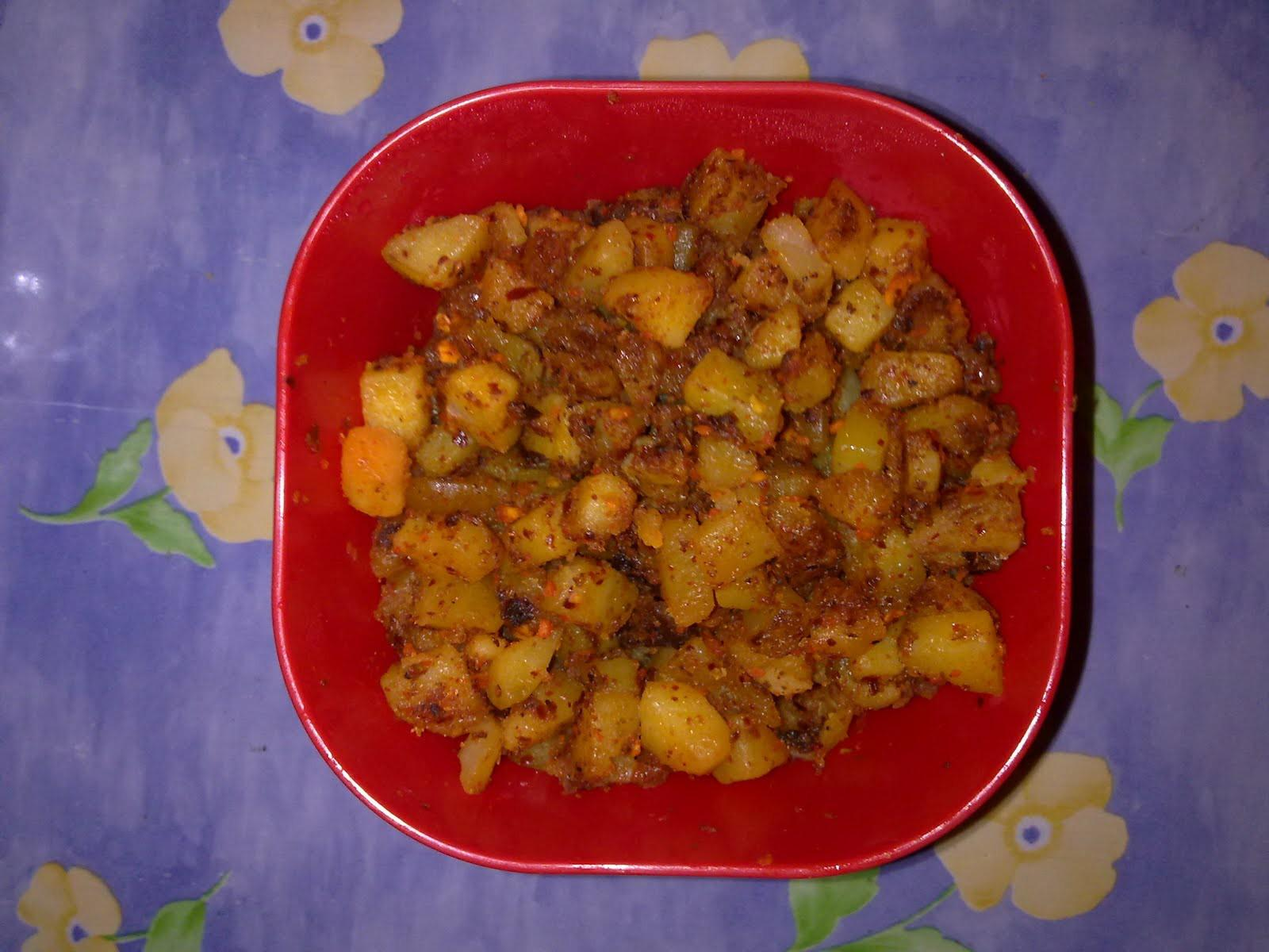AlooMasala: (342, 156, 1027, 797)
